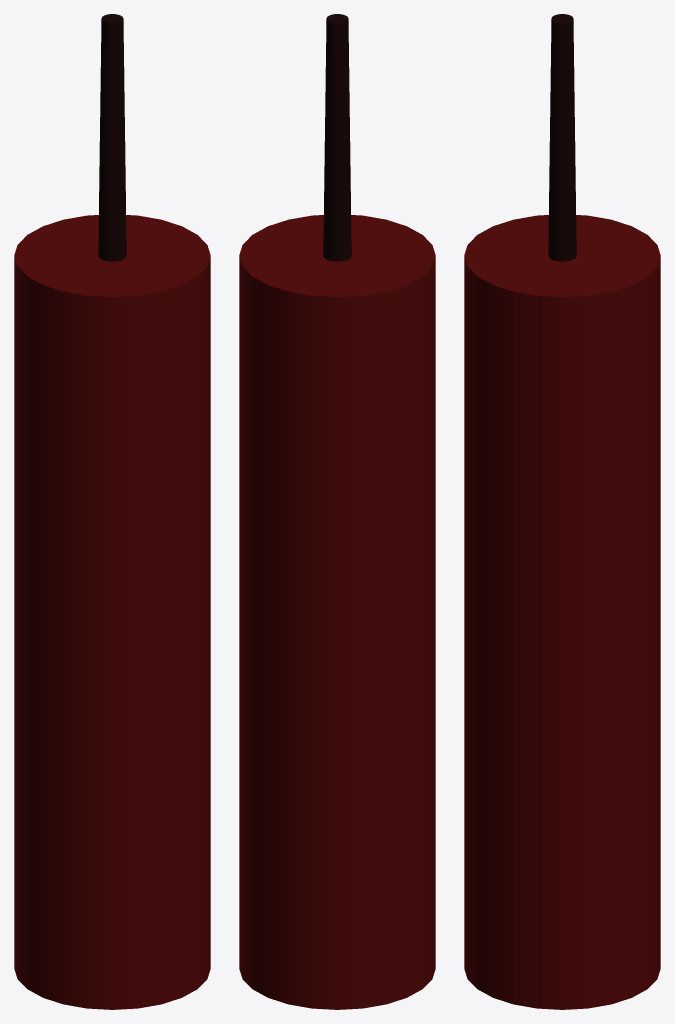
3 views of the same model, side by side, from view 1: azimuth 30°, elevation 25°; view 2: azimuth 150°, elevation 25°; view 3: azimuth 270°, elevation 25° (orthographic).
Visible parts, largest first — view 1: Cone001, Cone002; view 2: Cone001, Cone002; view 3: Cone001, Cone002.
Part boxes in pixels (left/top/right/bottom): Cone001: left=14, top=215, right=210, bottom=1009; Cone002: left=98, top=14, right=126, bottom=261; Cone001: left=239, top=215, right=435, bottom=1009; Cone002: left=323, top=14, right=351, bottom=261; Cone001: left=464, top=215, right=660, bottom=1009; Cone002: left=548, top=14, right=576, bottom=261.
Size of the model in its own units: 10 by 53.3 by 10.
